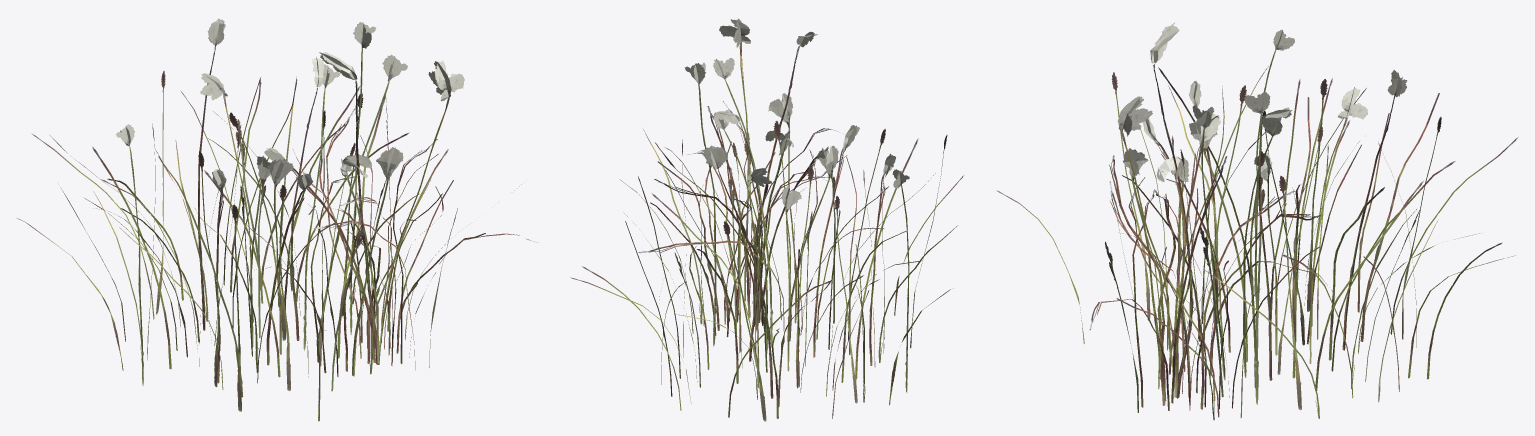
3 views of the same model, side by side, from view 1: azimuth 30°, elevation 25°; view 2: azimuth 150°, elevation 25°; view 3: azimuth 270°, elevation 25° (orthographic). The views are drawn at different scales.
Parts seen in each view (by area): view 1: ot; view 2: ot; view 3: ot.
Boxes of the visible parts, <box> form: ot: <box>16,18,538,421</box>; ot: <box>570,18,963,421</box>; ot: <box>996,22,1518,420</box>.
Bounding box in the file's own units: 1.21 × 0.9 × 1.21.
1 material, 1 textured.
